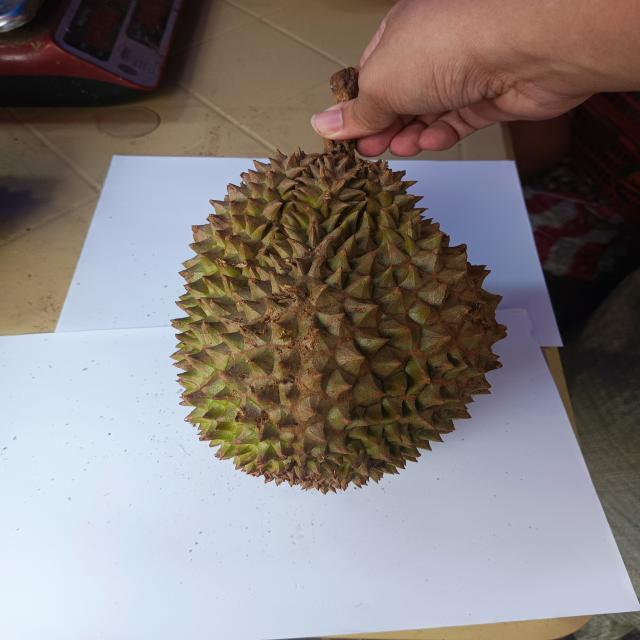mature: (167, 138, 510, 490)
